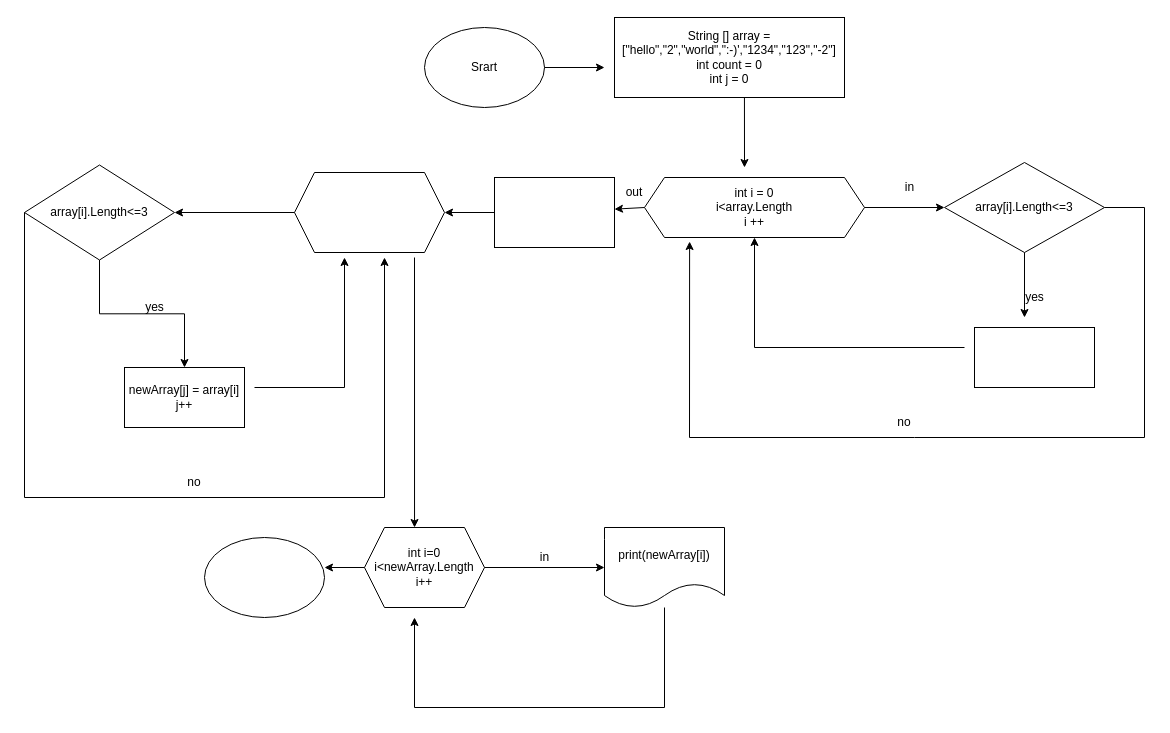
The diagram is 1170 pixels wide and 733 high, and some of its shapes have lost their labels. Here are the shapes that lost their labels. From the top down, the centre of each, then its label:
(x=369, y=212): int i = 0 i < array.Length i++
(x=554, y=212): string[]newArray new string[count]
(x=1034, y=357): count++
(x=264, y=577): End
